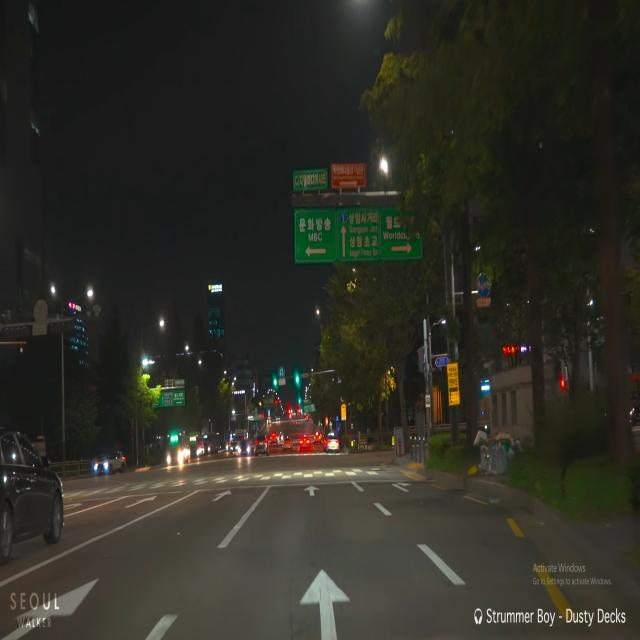headlights: (164, 447, 187, 470), (88, 456, 111, 476), (236, 444, 252, 459)
